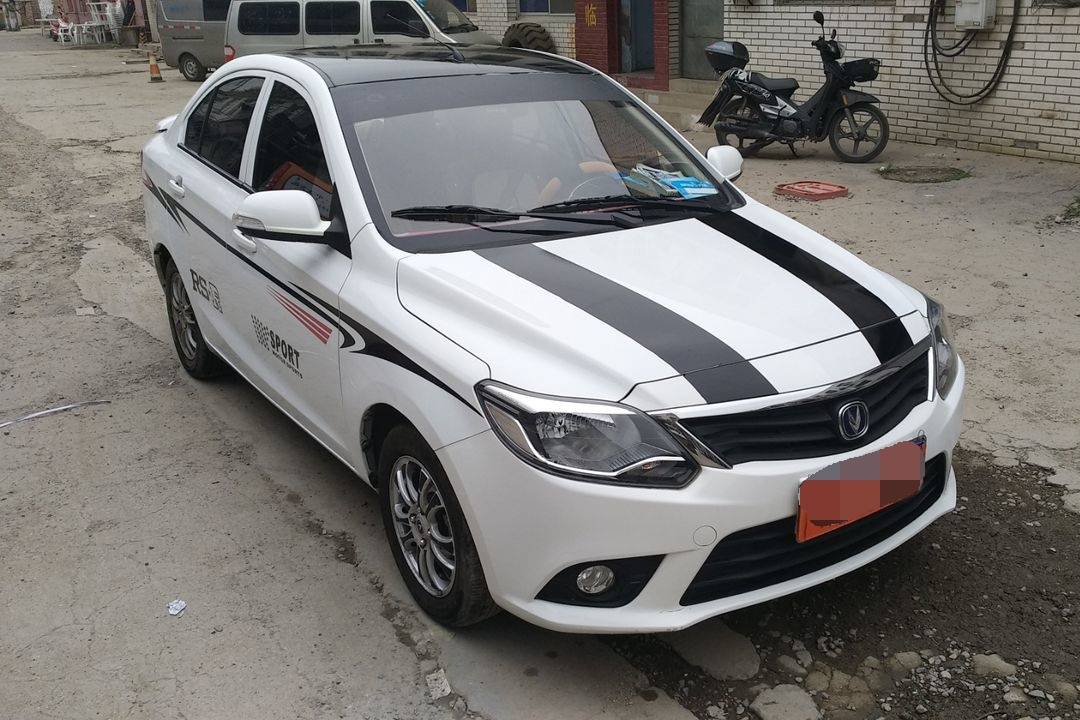family sedan: (126, 49, 966, 622)
